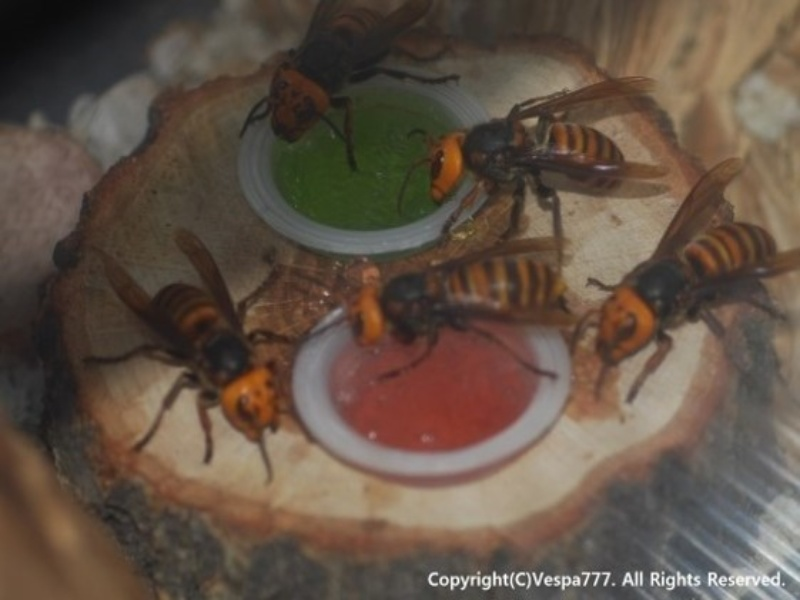asian_giant_hornet: (572, 208, 800, 393), (327, 234, 568, 376), (144, 279, 285, 442), (396, 111, 632, 206), (267, 8, 395, 147)
